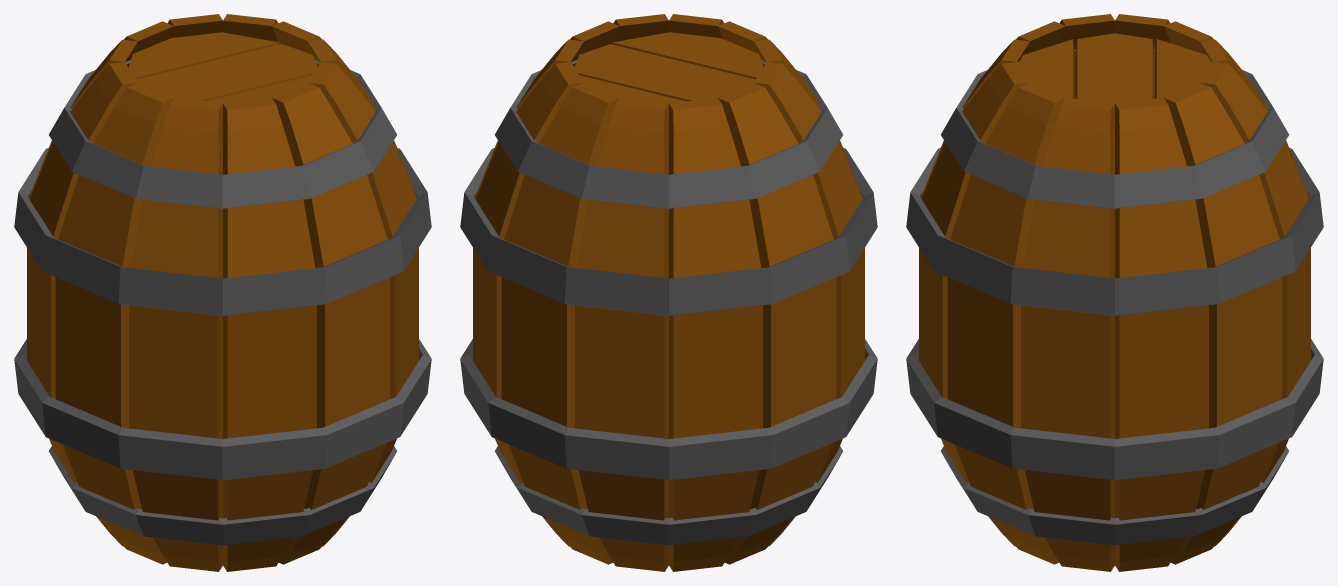
Rendered from Barrel.fbx.
3 views of the same model, side by side, from view 1: azimuth 30°, elevation 25°; view 2: azimuth 150°, elevation 25°; view 3: azimuth 270°, elevation 25° (orthographic).
Visible parts, largest first — view 1: Cylinder230; view 2: Cylinder230; view 3: Cylinder230.
Boxes of the visible parts, left/top/right/bottom form: Cylinder230: left=14, top=14, right=431, bottom=571; Cylinder230: left=460, top=14, right=877, bottom=571; Cylinder230: left=906, top=14, right=1323, bottom=571.
Size of the model in its own units: 32.2 by 39.3 by 32.2.
